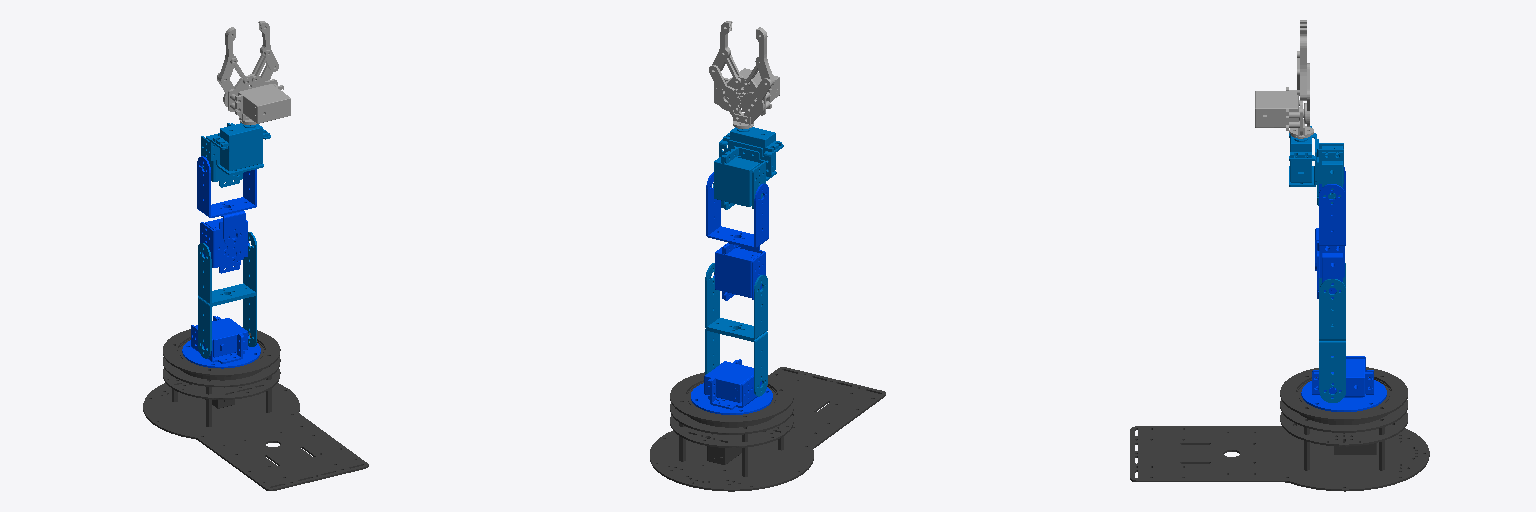
robot.urdf — RobotSimu:
<?xml version="1.0" encoding="utf-8"?>
<!-- This URDF was automatically created by SolidWorks to URDF Exporter! Originally created by [author] ([email redacted]) 
     Commit Version: 1.6.0-1-g15f4949  Build Version: 1.6.7594.29634
     For more information, please see http://wiki.ros.org/sw_urdf_exporter -->
<robot
  name="RobotSimu">
  <link
    name="base_link">
    <inertial>
      <origin
        xyz="1.85210098646582E-09 -0.0213348044298276 0.0257777007434297"
        rpy="0 0 0" />
      <mass
        value="1000.171476114988883" />
      <inertia
        ixx="0.000490503950534033"
        ixy="-5.31011457808604E-12"
        ixz="4.99470568675034E-12"
        iyy="0.000178279176825449"
        iyz="3.54225981820265E-08"
        izz="0.000658605896149164" />
    </inertial>
    <visual>
      <origin
        xyz="0 0 0"
        rpy="0 0 0" />
      <geometry>
        <mesh
          filename="package://RobotSimu/meshes/base_link.STL" />
      </geometry>
      <material
        name="base_color">
        <color
          rgba="0.3 0.3 0.3 1" />
      </material>
    </visual>
    <collision>
      <origin
        xyz="0 0 0"
        rpy="0 0 0" />
      <geometry>
        <mesh
          filename="package://RobotSimu/meshes/base_link.STL" />
      </geometry>
    </collision>
  </link>
  <link
    name="Link_1">
    <inertial>
      <origin
        xyz="-0.00109944857618166 -0.000573089103170027 0.00854146439699212"
        rpy="0 0 0" />
      <mass
        value="0.0581789981467626" />
      <inertia
        ixx="1.55310416613272E-05"
        ixy="3.44822142165696E-08"
        ixz="1.64281003555278E-07"
        iyy="1.48492694364836E-05"
        iyz="5.49654868302076E-10"
        izz="2.74225104219604E-05" />
    </inertial>
    <visual>
      <origin
        xyz="0 0 0"
        rpy="0 0 0" />
      <geometry>
        <mesh
          filename="package://RobotSimu/meshes/Link_1.STL" />
      </geometry>
      <material
        name="Link_1_color">
        <color
         rgba="0 0.35 1 1"  />
      </material>
    </visual>
    <collision>
      <origin
        xyz="0 0 0"
        rpy="0 0 0" />
      <geometry>
        <mesh
          filename="package://RobotSimu/meshes/Link_1.STL" />
      </geometry>
    </collision>
  </link>
  <joint
    name="000"
    type="revolute">
    <origin
      xyz="0 0 0.063"
      rpy="0 0 0" />
    <parent
      link="base_link" />
    <child
      link="Link_1" />
    <axis
      xyz="0 0 1" />
    <limit
      lower="-6.28"
      upper="6.28"
      effort="0"
      velocity="0" />
  </joint>
  <link
    name="Link_2">
    <inertial>
      <origin
        xyz="-2.77555756156289E-17 0.0515 -0.028"
        rpy="0 0 0" />
      <mass
        value="0.0162655308744818" />
      <inertia
        ixx="1.58221109478343E-05"
        ixy="-2.89638746622362E-22"
        ixz="6.45788469798762E-24"
        iyy="1.03486871483174E-05"
        iyz="-3.42801456359513E-22"
        izz="7.2104401185472E-06" />
    </inertial>
    <visual>
      <origin
        xyz="0 0 0"
        rpy="0 0 0" />
      <geometry>
        <mesh
          filename="package://RobotSimu/meshes/Link_2.STL" />
      </geometry>
      <material
        name="Link_2_color">
        <color
          rgba="0 0.5 0.8 1" />
      </material>
    </visual>
    <collision>
      <origin
        xyz="0 0 0"
        rpy="0 0 0" />
      <geometry>
        <mesh
          filename="package://RobotSimu/meshes/Link_2.STL" />
      </geometry>
    </collision>
  </link>
  <joint
    name="001"
    type="revolute">
    <origin
      xyz="0.0287 -0.010695 0.0165"
      rpy="1.5708 0 1.5708" />
    <parent
      link="Link_1" />
    <child
      link="Link_2" />
    <axis
      xyz="0 0 -1" />
    <limit
      lower="-6.28"
      upper="6.28"
      effort="0"
      velocity="0" />
  </joint>
  <link
    name="Link_3">
    <inertial>
      <origin
        xyz="-0.00153473304907872 0.0213982443646799 -0.0300189544670887"
        rpy="0 0 0" />
      <mass
        value="0.0492976910015532" />
      <inertia
        ixx="2.0066137700484E-05"
        ixy="-1.06463959786764E-07"
        ixz="1.64065331595808E-07"
        iyy="1.23652907590259E-05"
        iyz="3.56537247640853E-08"
        izz="1.17583358232629E-05" />
    </inertial>
    <visual>
      <origin
        xyz="0 0 0"
        rpy="0 0 0" />
      <geometry>
        <mesh
          filename="package://RobotSimu/meshes/Link_3.STL" />
      </geometry>
      <material
        name="Link_3_color">
        <color
          rgba="0 0.35 1 1" />
      </material>
    </visual>
    <collision>
      <origin
        xyz="0 0 0"
        rpy="0 0 0" />
      <geometry>
        <mesh
          filename="package://RobotSimu/meshes/Link_3.STL" />
      </geometry>
    </collision>
  </link>
  <joint
    name="002"
    type="revolute">
    <origin
      xyz="0 0.103 0"
      rpy="0 0 0" />
    <parent
      link="Link_2" />
    <child
      link="Link_3" />
    <axis
      xyz="0 0 -1" />
    <limit
      lower="-6.28"
      upper="6.28"
      effort="0"
      velocity="0" />
  </joint>
  <link
    name="Link_4">
    <inertial>
      <origin
        xyz="-0.0144999917410608 0.0196189174119079 -0.028220072287286"
        rpy="0 0 0" />
      <mass
        value="0.0774022473293267" />
      <inertia
        ixx="2.34505906805947E-05"
        ixy="-1.64830658380818E-07"
        ixz="1.64840648294885E-07"
        iyy="1.46701107666031E-05"
        iyz="1.87061981565075E-09"
        izz="1.46701107666032E-05" />
    </inertial>
    <visual>
      <origin
        xyz="0 0 0"
        rpy="0 0 0" />
      <geometry>
        <mesh
          filename="package://RobotSimu/meshes/Link_4.STL" />
      </geometry>
      <material
        name="Link_4_color">
        <color
          rgba="0 0.5 0.8 1" />
      </material>
    </visual>
    <collision>
      <origin
        xyz="0 0 0"
        rpy="0 0 0" />
      <geometry>
        <mesh
          filename="package://RobotSimu/meshes/Link_4.STL" />
      </geometry>
    </collision>
  </link>
  <joint
    name="003"
    type="revolute">
    <origin
      xyz="-0.0005 0.0975 -0.0007"
      rpy="0 0 0" />
    <parent
      link="Link_3" />
    <child
      link="Link_4" />
    <axis
      xyz="0 0 -1" />
    <limit
      lower="-6.28"
      upper="6.28"
      effort="0"
      velocity="0" />
  </joint>
  <link
    name="Link_5">
    <inertial>
      <origin
        xyz="-0.0031727562105052 -0.015655061299488 -0.0317318964739809"
        rpy="0 0 0" />
      <mass
        value="0.0524330253102055" />
      <inertia
        ixx="8.76672852006837E-06"
        ixy="3.54226242016006E-08"
        ixz="5.53078686636247E-08"
        iyy="1.04721655827109E-05"
        iyz="5.00076040148572E-12"
        izz="1.09003371329437E-05" />
    </inertial>
    <visual>
      <origin
        xyz="0 0 0"
        rpy="0 0 0" />
      <geometry>
        <mesh
          filename="package://RobotSimu/meshes/Link_5.STL" />
      </geometry>
      <material
        name="end">
        <color
          rgba="0.7 0.7 0.7 1" />
      </material>
    </visual>
    <collision>
      <origin
        xyz="0 0 0"
        rpy="0 0 0" />
      <geometry>
        <mesh
          filename="package://RobotSimu/meshes/Link_5.STL" />
      </geometry>
    </collision>
  </link>
  <joint
    name="004"
    type="revolute">
    <origin
      xyz="-0.026641 0.05785 -0.01815"
      rpy="1.5708 1.5708 0" />
    <parent
      link="Link_4" />
    <child
      link="Link_5" />
    <axis
      xyz="0 0 -1" />
    <limit
      lower="-3.14"
      upper="3.14"
      effort="0"
      velocity="0" />
  </joint>
</robot>

--- What the picture shows (computed from the rendered views, not written in the file) ---
The picture shows the robot from 3 angles, left to right: view 1: azimuth 30°, elevation 25°; view 2: azimuth 150°, elevation 25°; view 3: azimuth 270°, elevation 25°; orthographic projection.
Model RobotSimu with 6 links and 5 joints (5 revolute), rooted at base_link, posed every joint at zero.
Links seen in each view (by area): view 1: base_link, Link_5, Link_3, Link_2, Link_4, Link_1; view 2: base_link, Link_3, Link_4, Link_5, Link_2, Link_1; view 3: base_link, Link_2, Link_5, Link_3, Link_4, Link_1.
Boxes of the visible links, left/top/right/bottom form: base_link: left=143, top=327, right=368, bottom=490; Link_5: left=217, top=21, right=290, bottom=124; Link_3: left=197, top=156, right=256, bottom=273; Link_2: left=198, top=232, right=256, bottom=358; Link_4: left=201, top=123, right=270, bottom=187; Link_1: left=182, top=316, right=260, bottom=368; base_link: left=650, top=367, right=885, bottom=491; Link_3: left=706, top=172, right=768, bottom=300; Link_4: left=713, top=127, right=783, bottom=209; Link_5: left=709, top=21, right=779, bottom=128; Link_2: left=705, top=263, right=767, bottom=396; Link_1: left=691, top=359, right=772, bottom=414; base_link: left=1130, top=367, right=1429, bottom=491; Link_2: left=1319, top=263, right=1345, bottom=402; Link_5: left=1255, top=20, right=1313, bottom=138; Link_3: left=1315, top=167, right=1345, bottom=298; Link_4: left=1289, top=126, right=1343, bottom=205; Link_1: left=1301, top=356, right=1386, bottom=411.
Bounding box of the posed robot: 0.16 × 0.28 × 0.4439 m (x, y, z).
Meshes: 6 distinct files referenced, 6 mesh visuals loaded (6 binary STL).